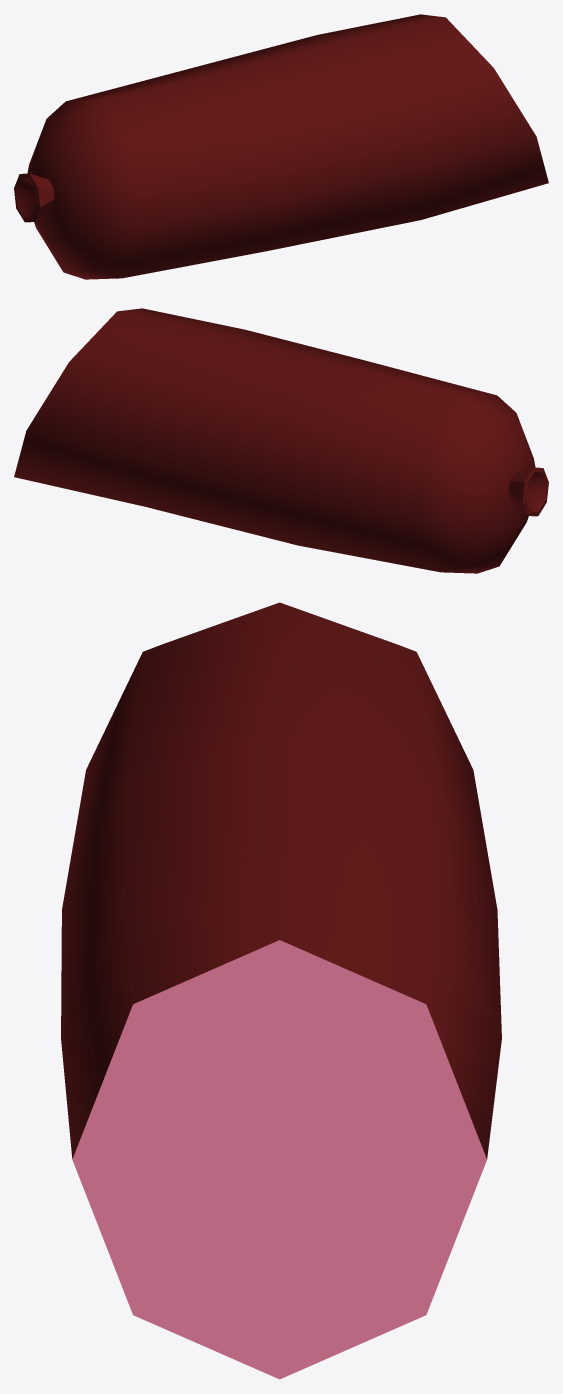
Rendered from Doktorskaya.FBX.
3 views of the same model, one above another, from view 1: azimuth 30°, elevation 25°; view 2: azimuth 150°, elevation 25°; view 3: azimuth 270°, elevation 25° (orthographic). The views are drawn at different scales.
Parts seen in each view (by area): view 1: Food_saliami_Doktorskaya_01; view 2: Food_saliami_Doktorskaya_01; view 3: Food_saliami_Doktorskaya_01.
Boxes of the visible parts, box(x1,y1,x2,y2) form: Food_saliami_Doktorskaya_01: box(14, 14, 548, 279); Food_saliami_Doktorskaya_01: box(14, 308, 548, 573); Food_saliami_Doktorskaya_01: box(61, 602, 501, 1379).
Bounding box in the file's own units: 11.34 × 4.34 × 4.02.
